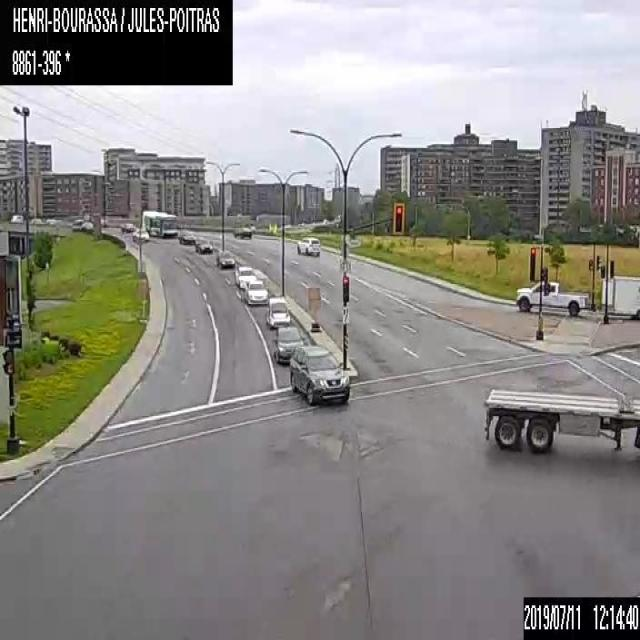bus: (141, 209, 177, 237)
vehicle: (483, 383, 639, 452), (289, 344, 349, 407), (514, 279, 590, 316), (600, 273, 639, 320), (272, 326, 304, 361), (266, 296, 291, 327), (244, 279, 268, 304), (234, 265, 256, 288), (296, 235, 319, 255), (216, 249, 234, 268), (231, 221, 250, 238), (195, 238, 212, 254), (178, 230, 195, 243), (132, 228, 148, 240), (121, 222, 135, 231), (9, 214, 22, 222)
